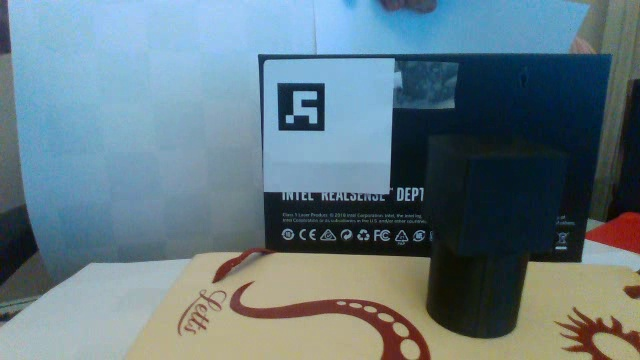cube: (415, 118, 584, 262)
cylindre: (419, 225, 540, 347)
